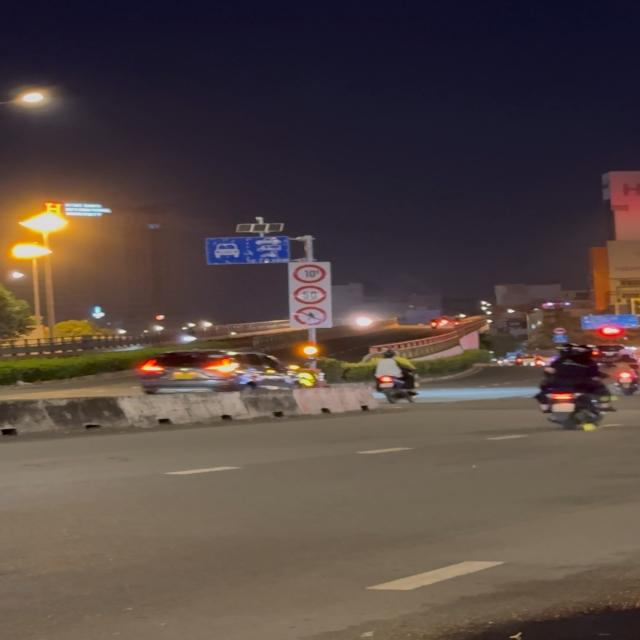Bien bao cam nguoi di bo: (291, 305, 330, 327)
Bien bao toc do toi da cho phep: (292, 286, 328, 306)
